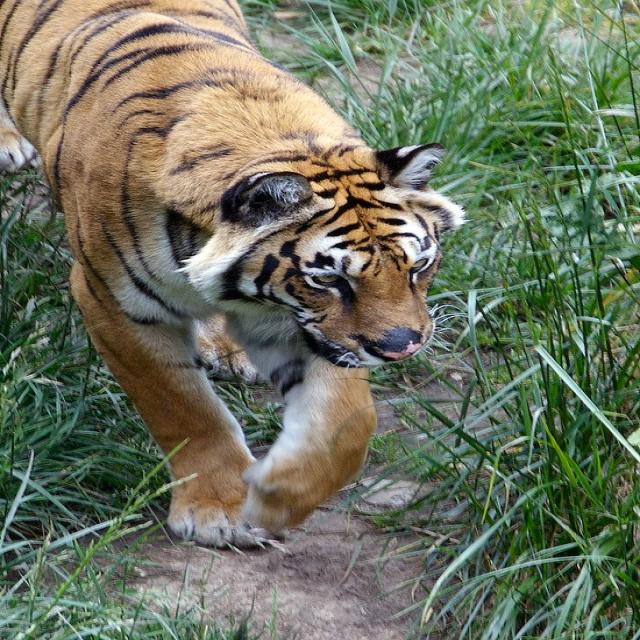Tiger: (0, 0, 469, 551)
